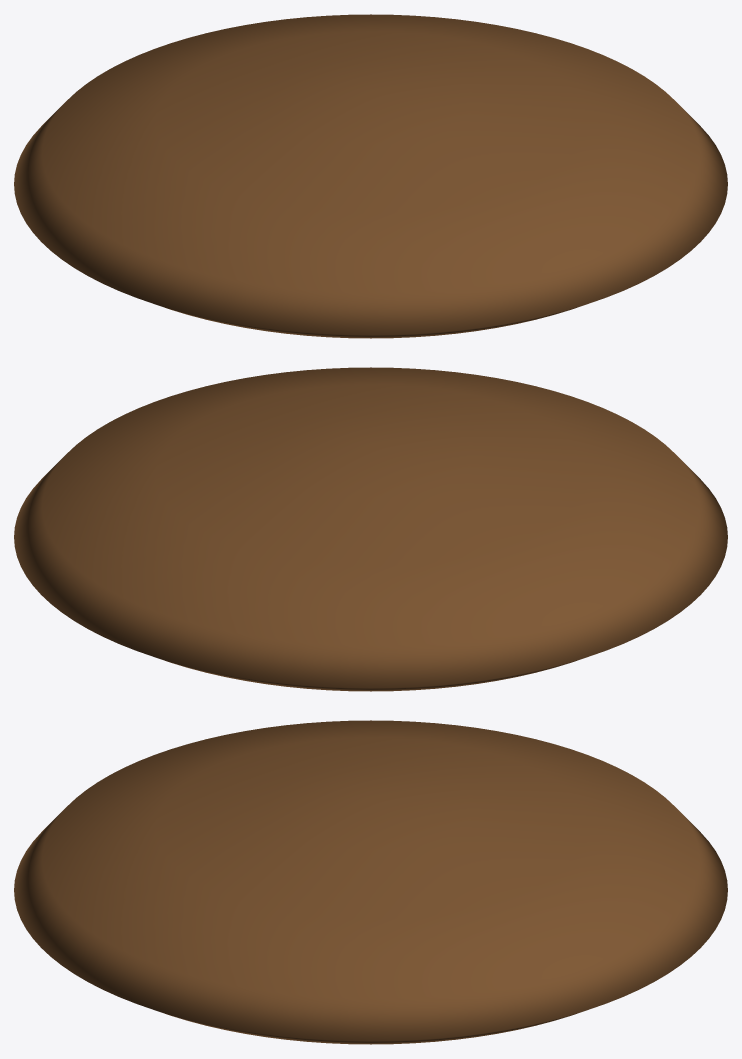
File: CoffeeGroundPowder_126mm.fbx
3 renders of one model, top to bottom at view 1: azimuth 30°, elevation 25°; view 2: azimuth 150°, elevation 25°; view 3: azimuth 270°, elevation 25°, orthographic.
Visible parts, largest first — view 1: CoffeeGroundPowder_Mound; view 2: CoffeeGroundPowder_Mound; view 3: CoffeeGroundPowder_Mound.
Boxes of the visible parts, bbox=[...] form: CoffeeGroundPowder_Mound: bbox=[14, 14, 727, 338]; CoffeeGroundPowder_Mound: bbox=[14, 367, 727, 691]; CoffeeGroundPowder_Mound: bbox=[14, 720, 727, 1044].
Bounding box in the file's own units: 0.126 × 0.028 × 0.126.
